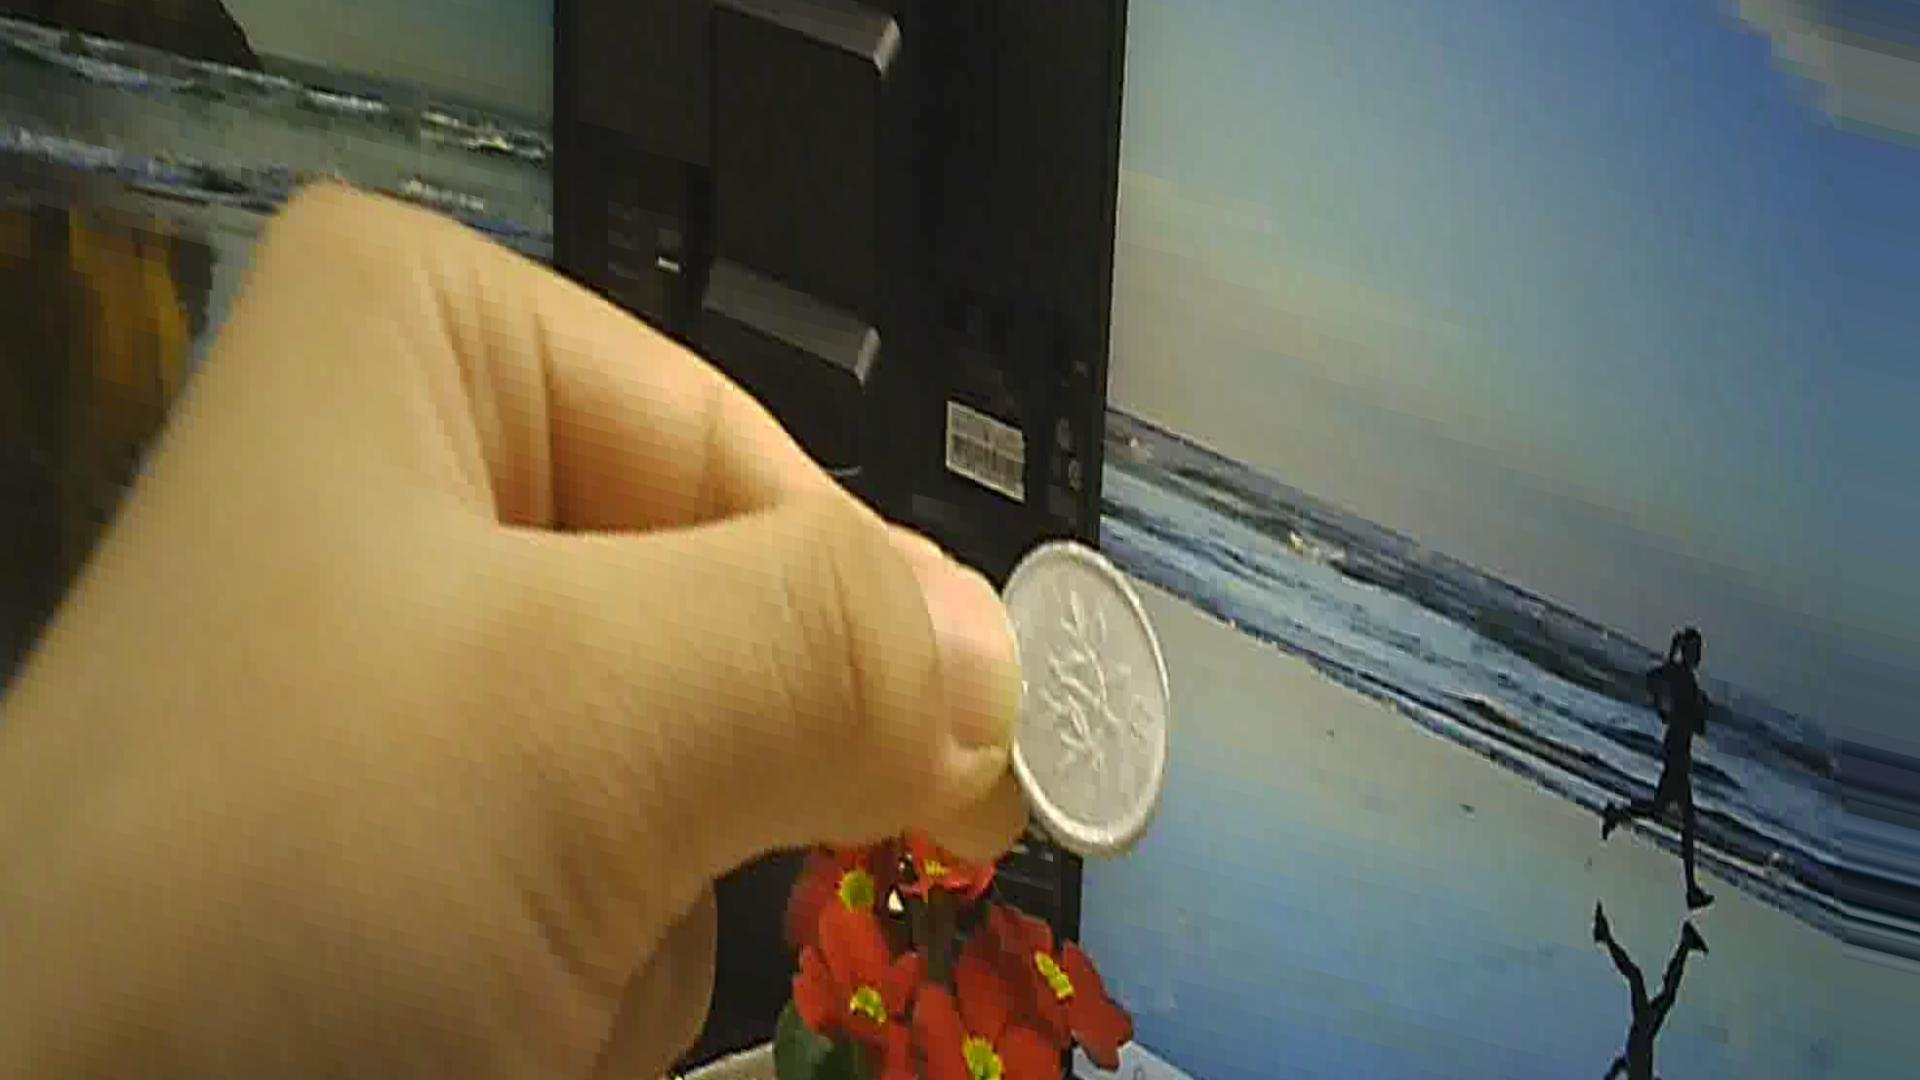1 Yen: (982, 530, 1179, 880)
